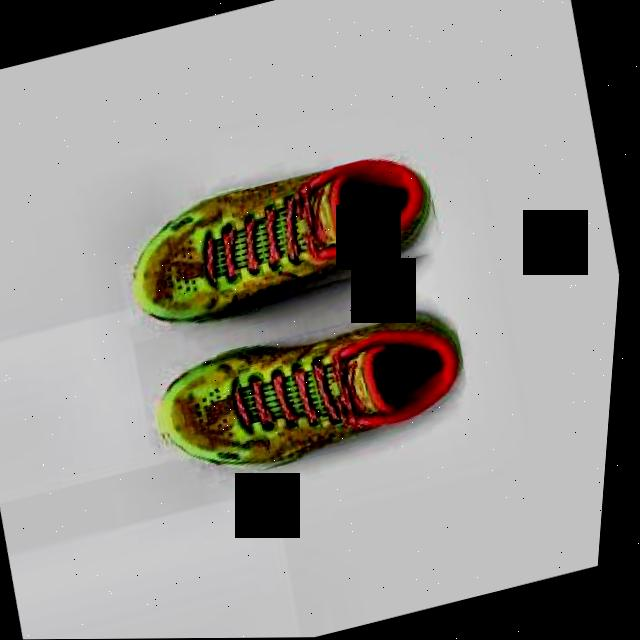shoe: (147, 294, 487, 493), (118, 145, 455, 339)
